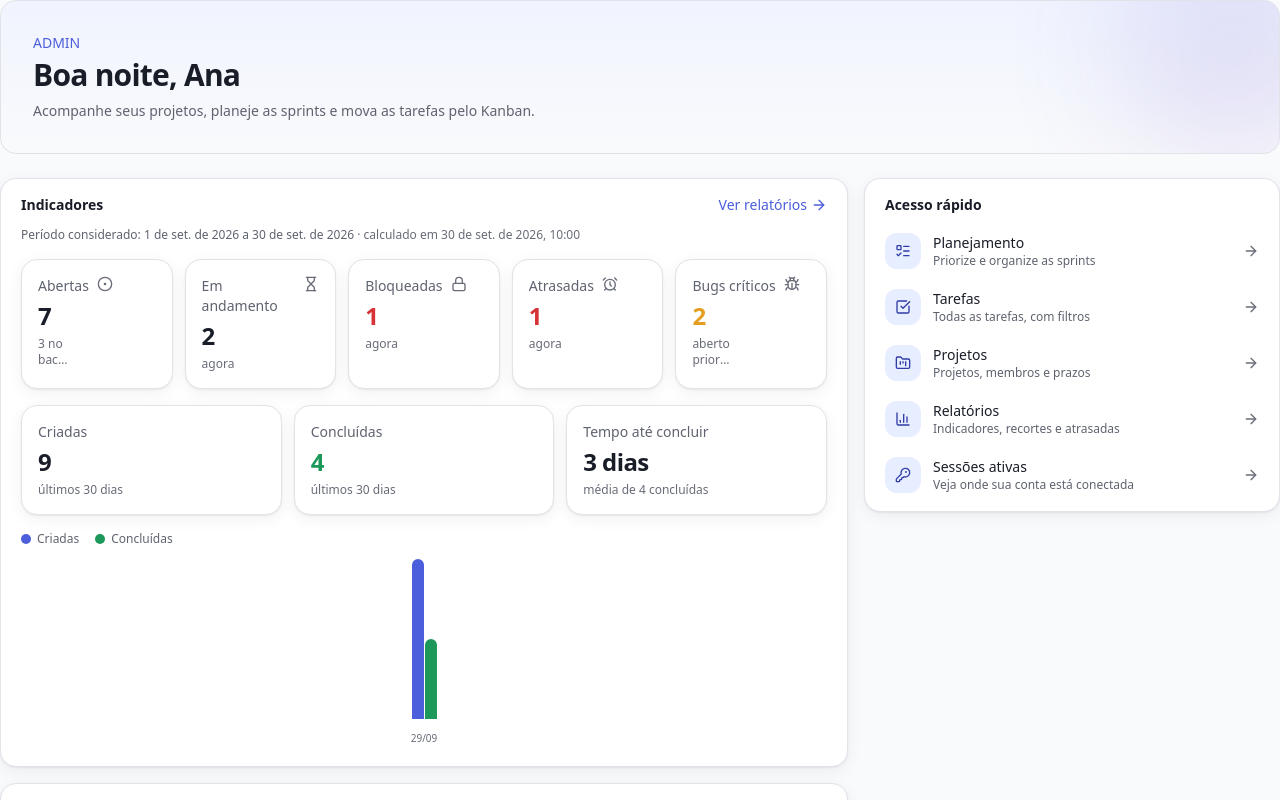
Dashboard › cards do dashboard também abrem o detalhamento
This screenshot has width=1280, height=800.
Click the button "Concluídas 4 últimos 30 dias" at (347, 432), box [294, 405, 554, 515]
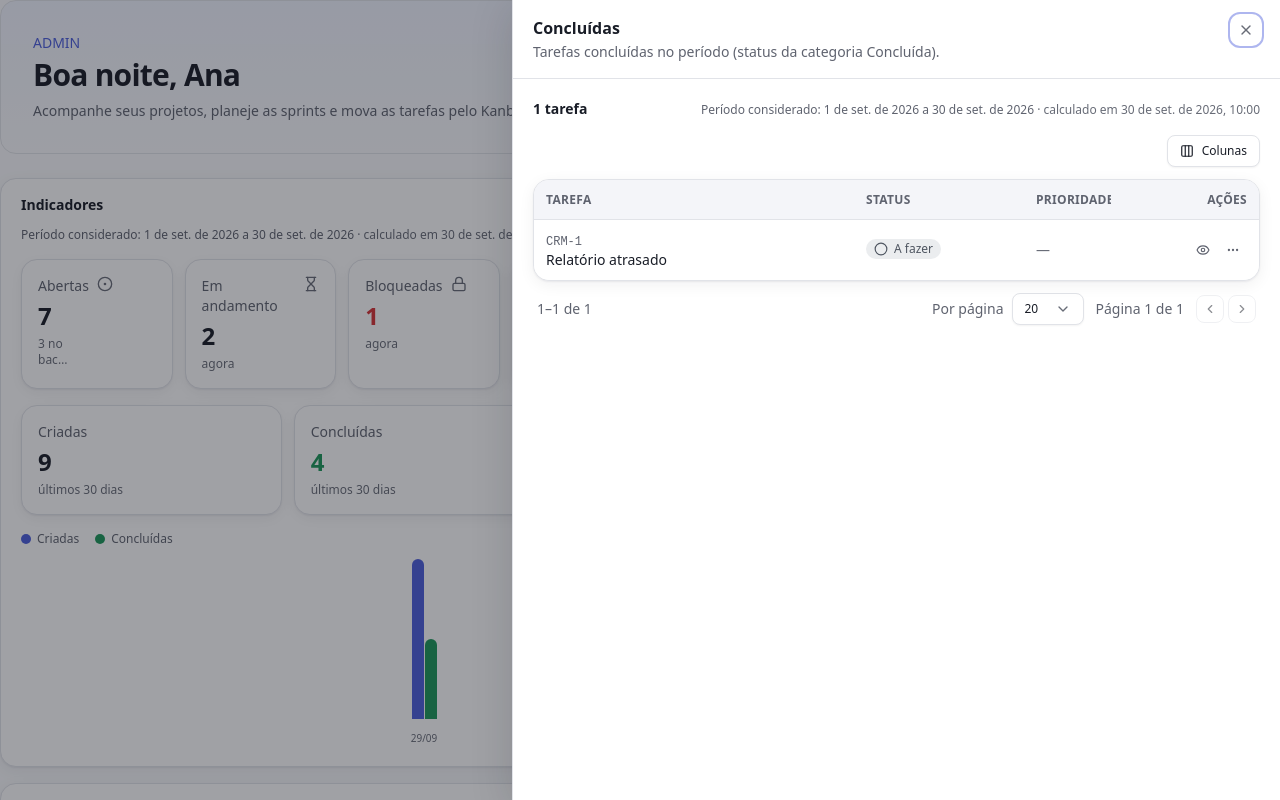
Check: the dialog "Concluídas" is shown, box [512, 0, 1279, 799]
